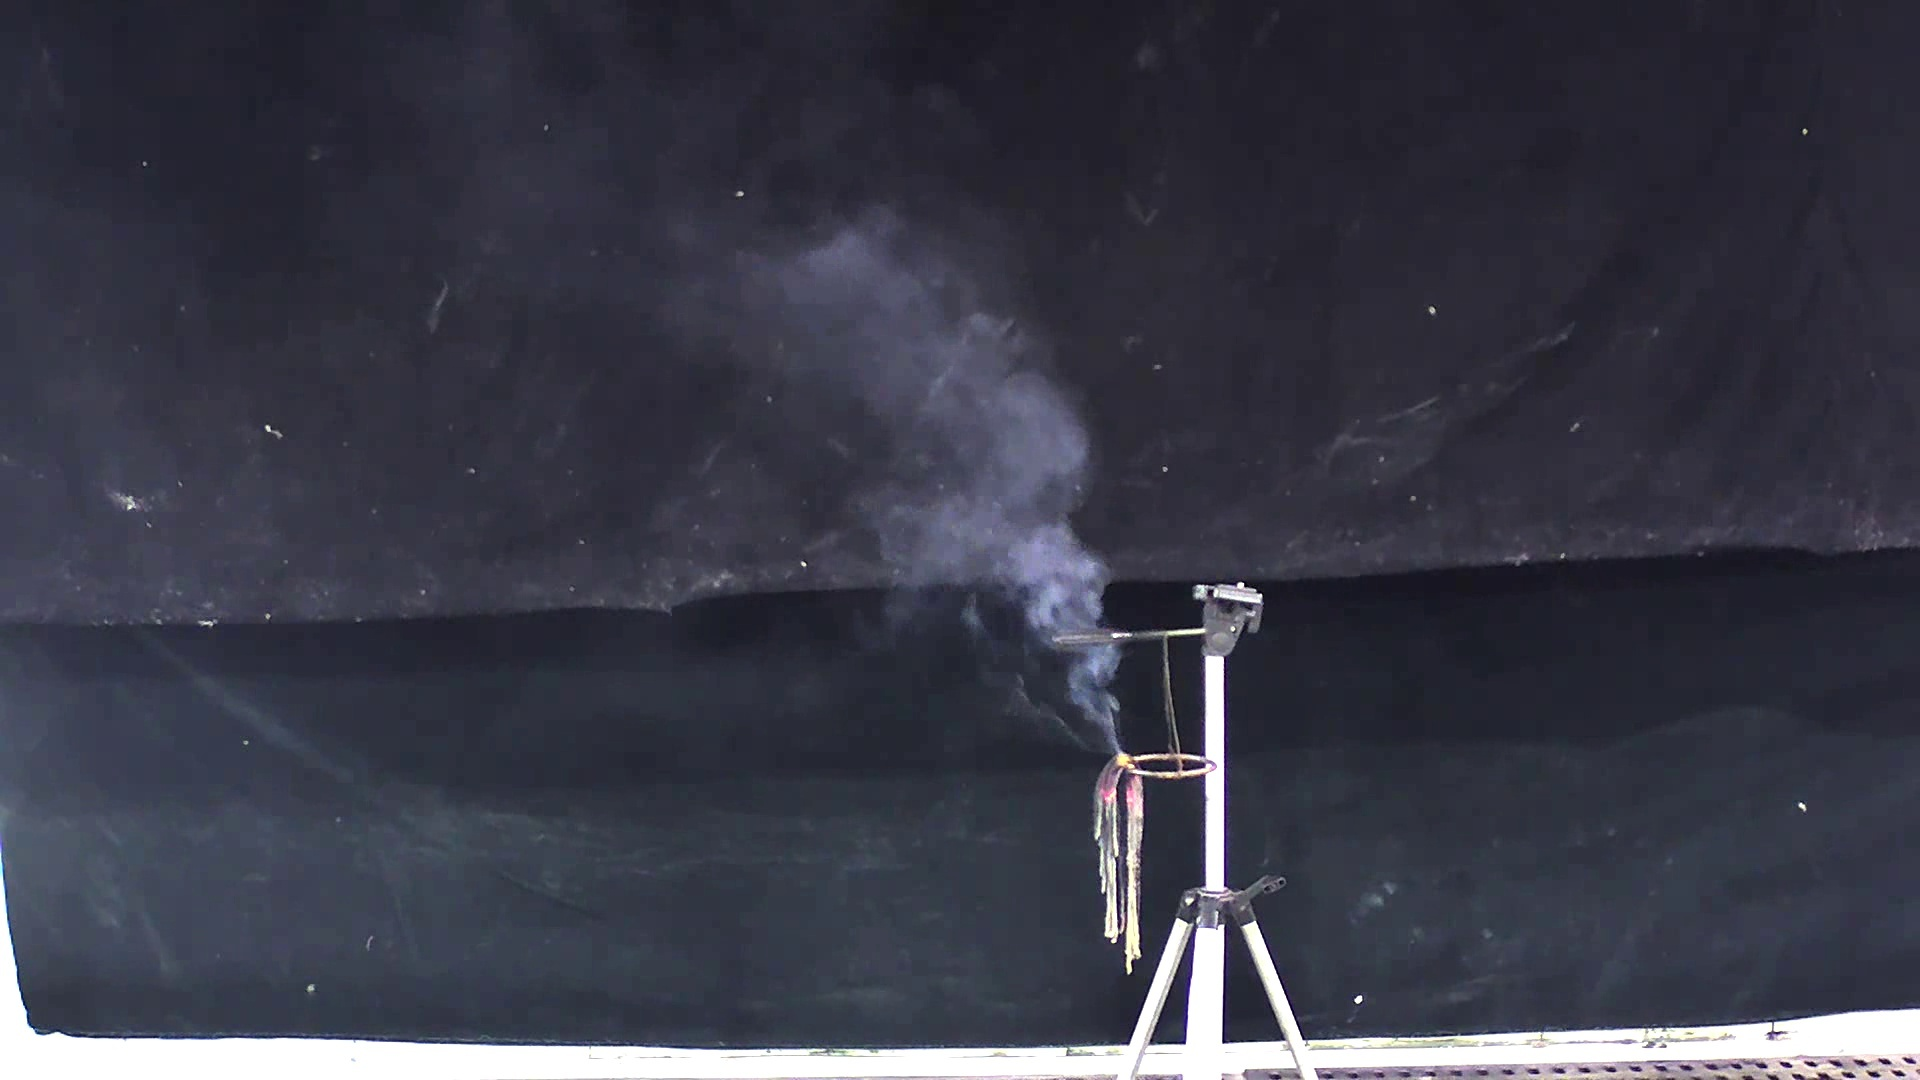smoke: (729, 186, 1138, 766)
